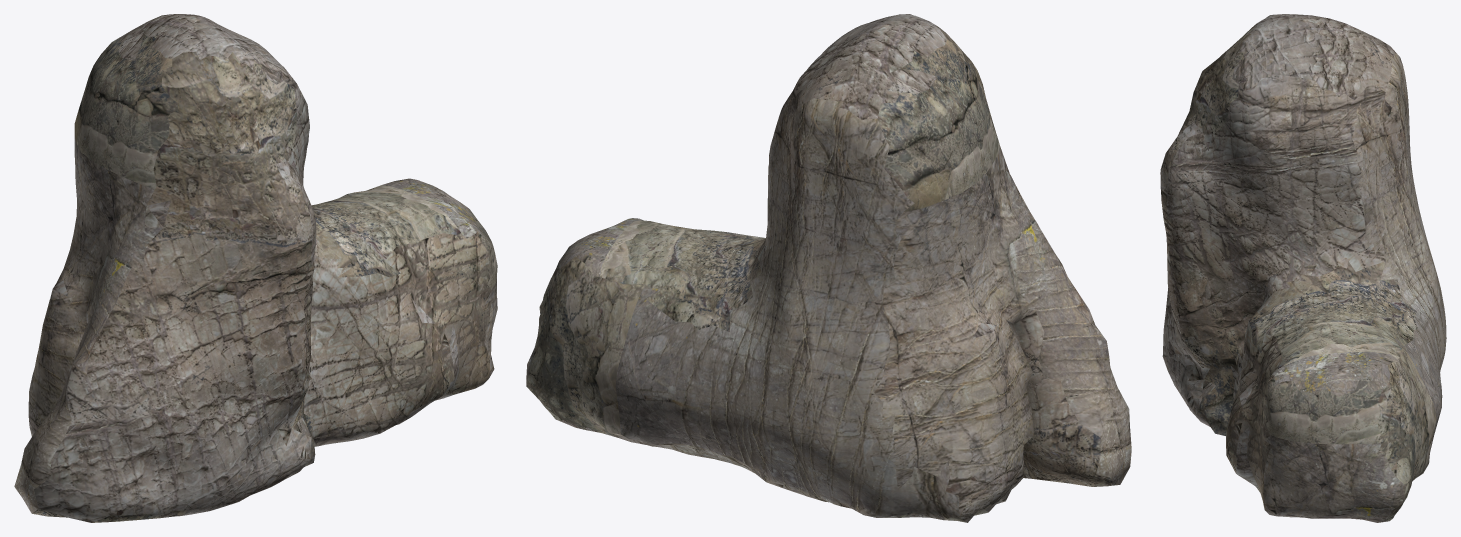
File: stone_formation_b_1.fbx
3 renders of one model, left to right at view 1: azimuth 30°, elevation 25°; view 2: azimuth 150°, elevation 25°; view 3: azimuth 270°, elevation 25°, orthographic. The views are drawn at different scales.
Parts seen in each view (by area): view 1: Stone_Formation; view 2: Stone_Formation; view 3: Stone_Formation.
Boxes of the visible parts, <box> form: Stone_Formation: <box>14,14,497,522</box>; Stone_Formation: <box>526,14,1131,522</box>; Stone_Formation: <box>1160,14,1446,522</box>.
Bounding box in the file's own units: 8428 × 6903 × 4560.
Materials: 1 (1 with a texture image).
